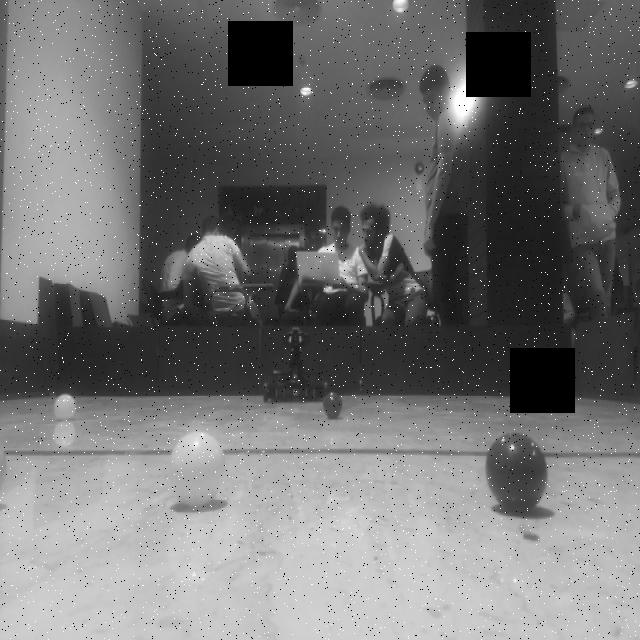ball: (483, 428, 550, 513), (169, 430, 230, 511), (49, 388, 80, 427), (321, 390, 345, 420)
